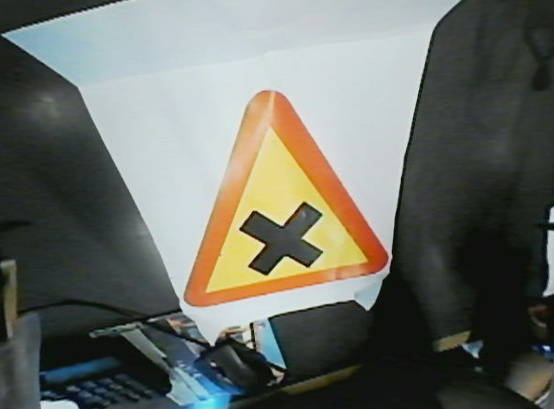junction: (160, 78, 411, 308)
